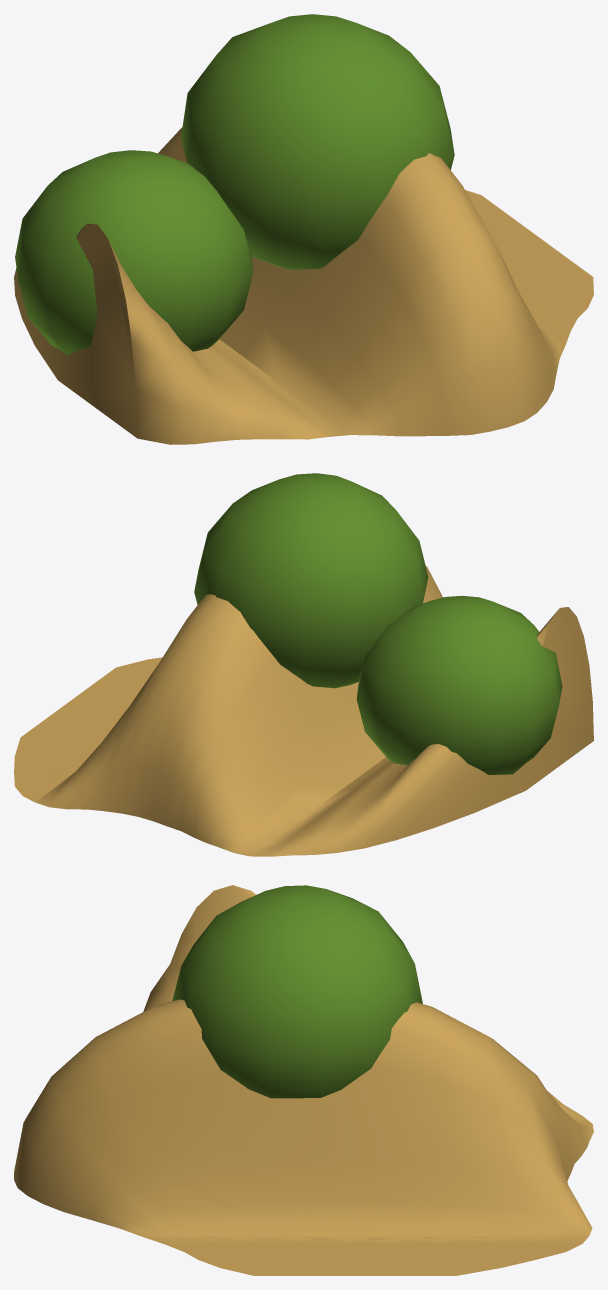
Rendered from gleba-spawner-small.glb.
3 renders of one model, top to bottom at view 1: azimuth 30°, elevation 25°; view 2: azimuth 150°, elevation 25°; view 3: azimuth 270°, elevation 25°, orthographic. The views are drawn at different scales.
Visible parts, largest first — view 1: body; view 2: body; view 3: body.
Boxes of the visible parts, <box> form: body: <box>14,14,593,444</box>; body: <box>14,473,593,856</box>; body: <box>14,885,593,1275</box>.
Size of the model in its own units: 1.84 by 0.9788 by 1.92.
